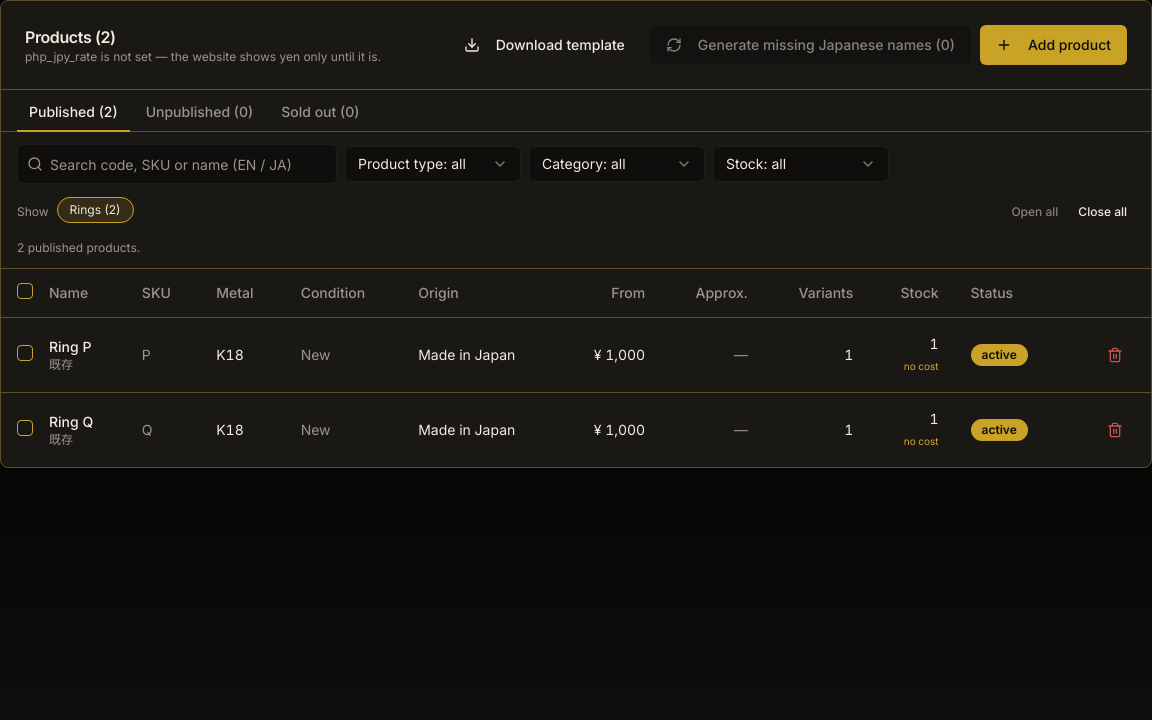
it: R3 a failed conflict read is not a deletion › reports the verification failure, keeps the edits, and does not say the product is gone
Click the text "Ring P". click: click(79, 354)
box: [33,317,126,392]
(page scrolled)
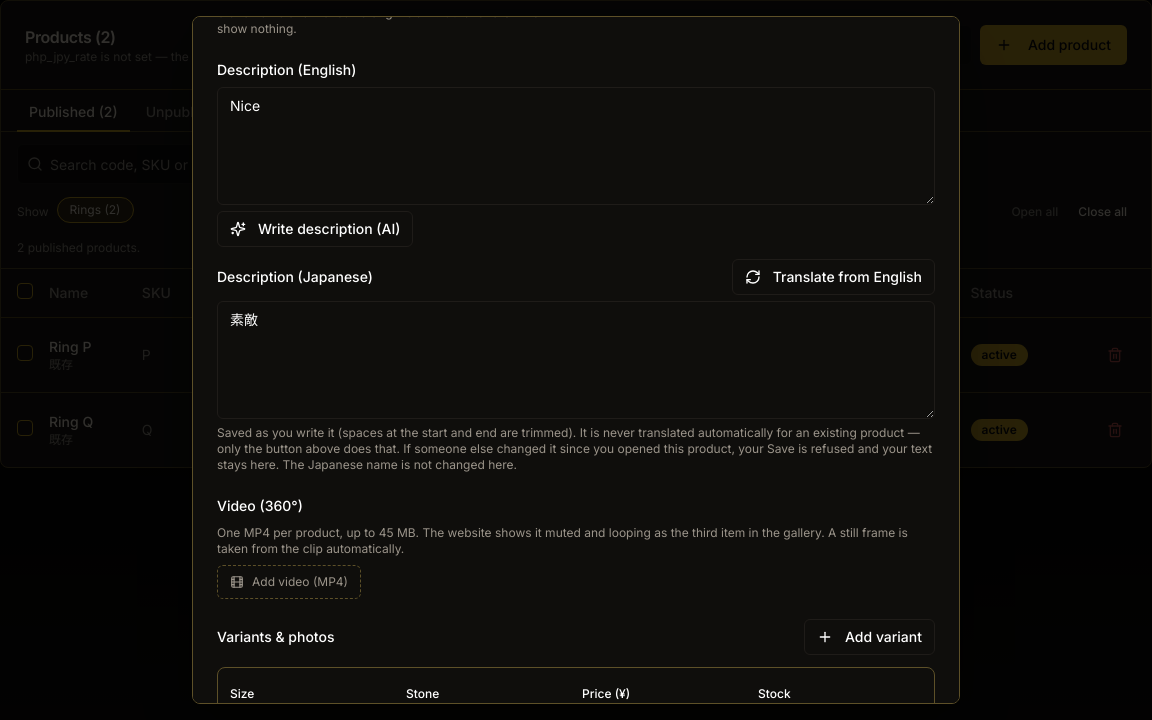
Replace the text in the text box labelled "Description (Japanese)" with "私の説明". click: (576, 360)
box: [217,300,935,418]
(page scrolled)
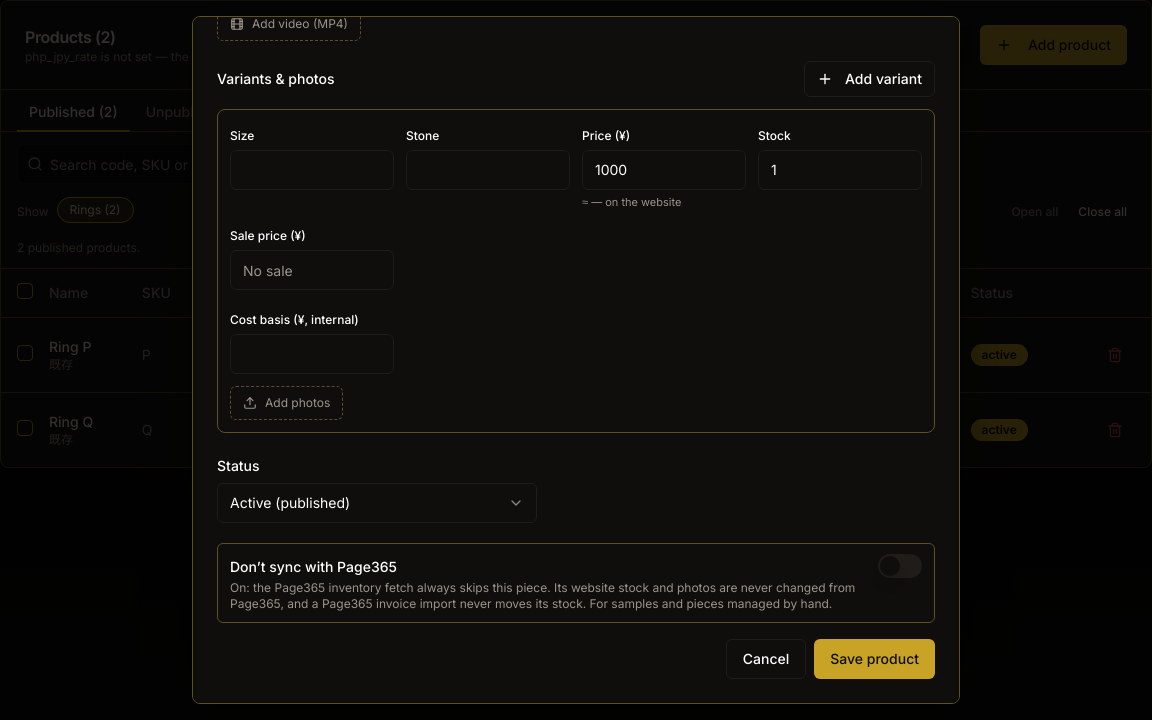
Click the button "Save product". click: click(875, 659)
box: [814,639,935,679]
(page scrolled)
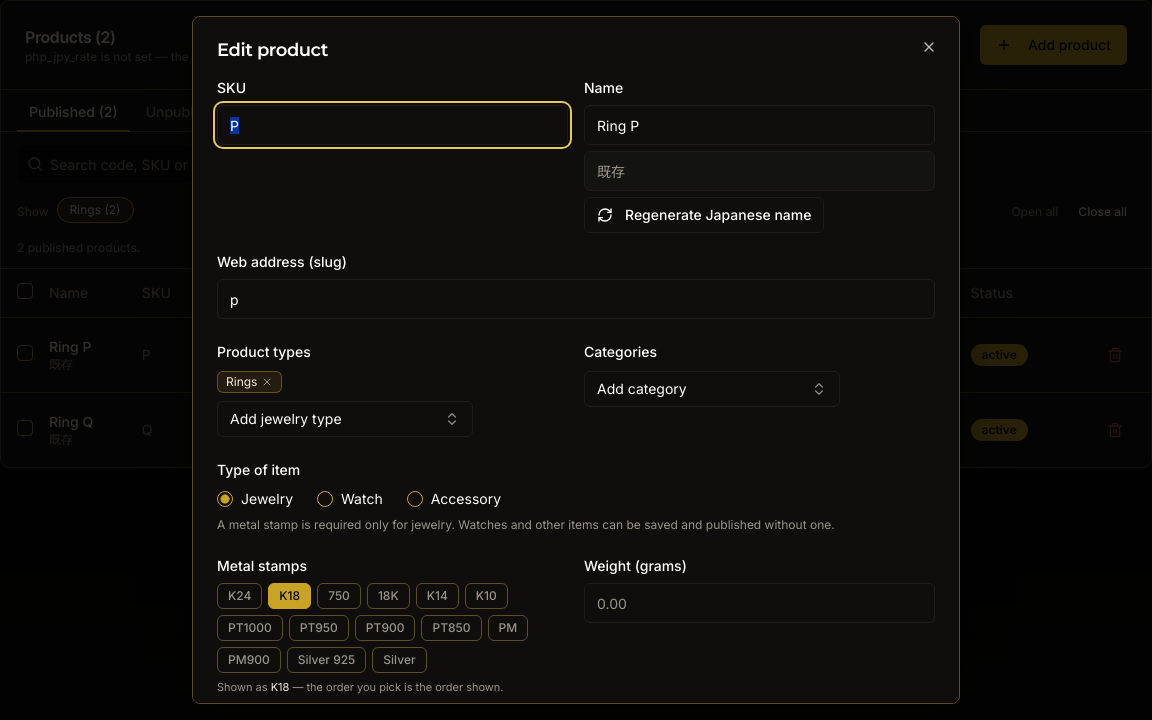
expect the heading "Edit product" is shown: met, box [217,39,328,61]
